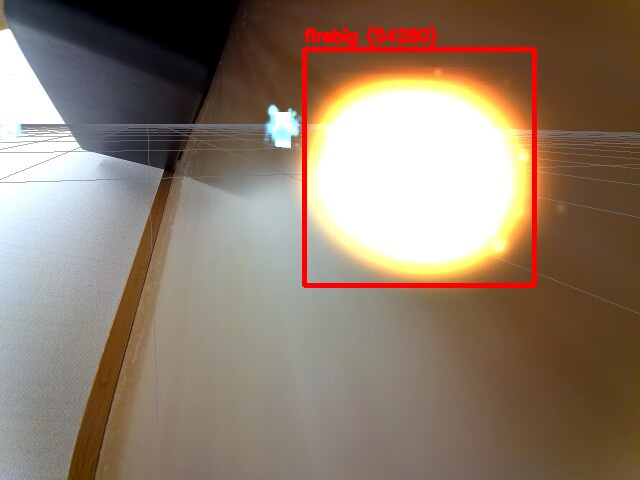firebig: (304, 49, 534, 285)
